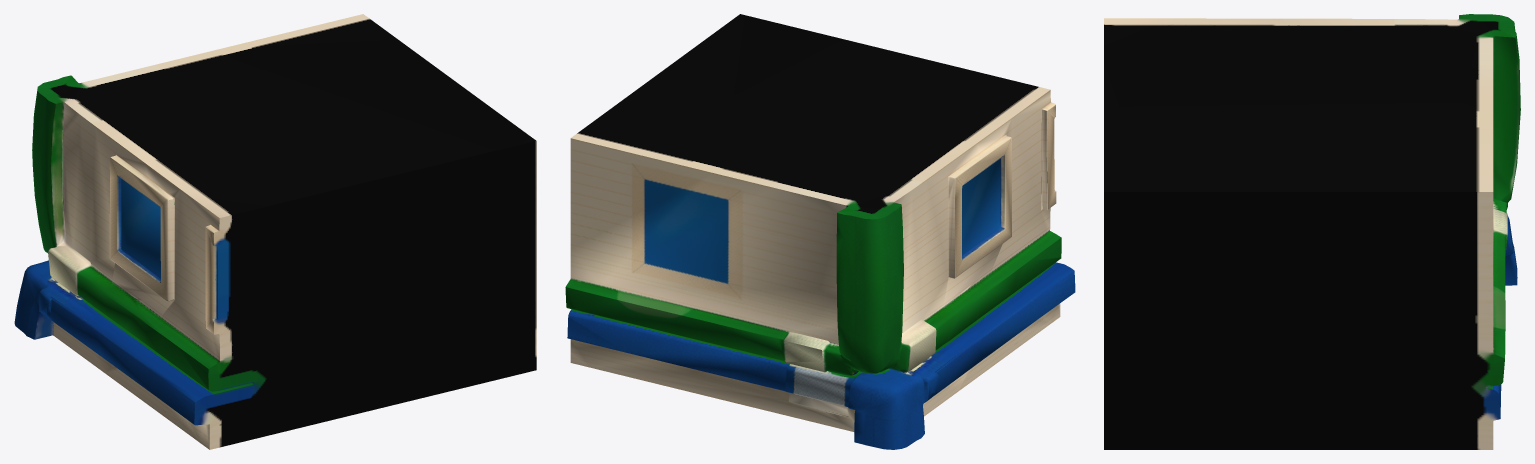
The model's file is 7-upper-walls-back-left.fbx.
The picture shows the model from 3 angles, left to right: view 1: azimuth 30°, elevation 25°; view 2: azimuth 150°, elevation 25°; view 3: azimuth 270°, elevation 25°; orthographic projection. The views are drawn at different scales.
Parts seen in each view (by area): view 1: upper-walls-back-left; view 2: upper-walls-back-left; view 3: upper-walls-back-left.
Boxes of the visible parts, x1,y1,x2,y2 form: upper-walls-back-left: [14, 14, 536, 449]; upper-walls-back-left: [565, 14, 1075, 449]; upper-walls-back-left: [1104, 14, 1520, 449].
Bounding box in the file's own units: 9002 × 5681 × 8323.
1 material, 1 textured.
